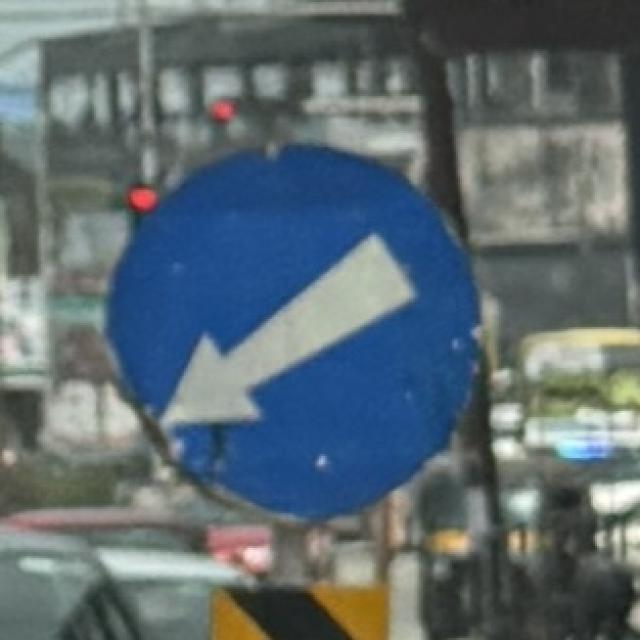KEEP_LEFT: (100, 140, 487, 530)
